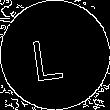L_N: (36, 28, 74, 82)
